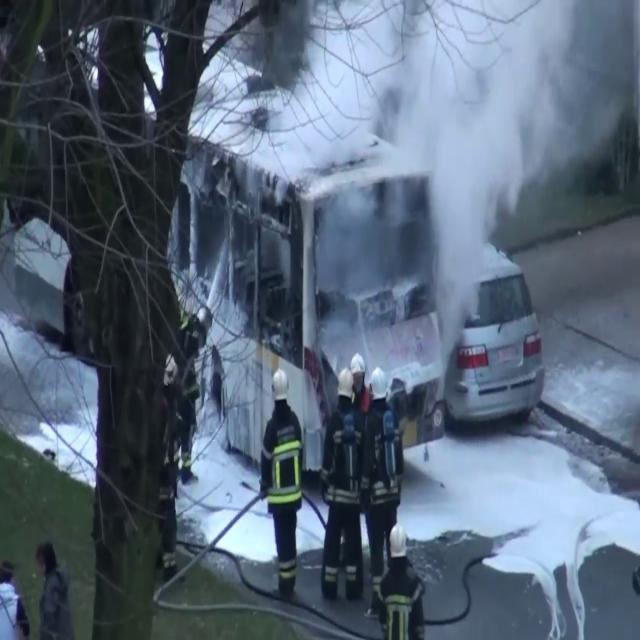Smoke: (317, 0, 640, 330)
